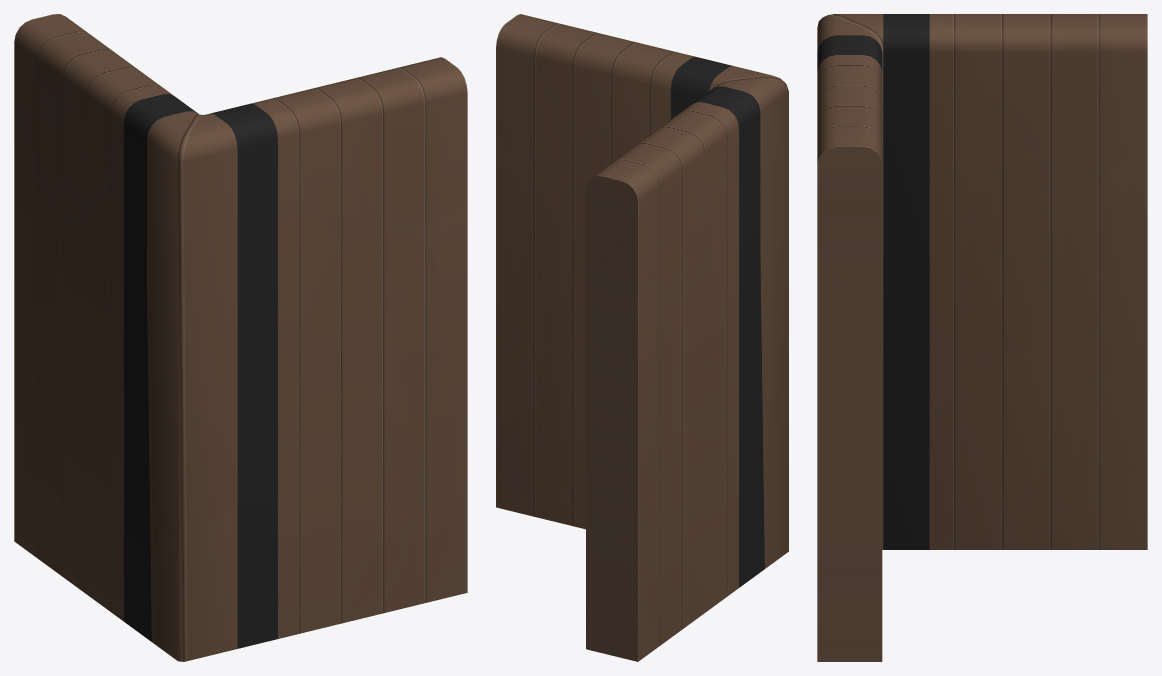
The model's file is WallCorner_GEO.fbx.
3 renders of one model, left to right at view 1: azimuth 30°, elevation 25°; view 2: azimuth 150°, elevation 25°; view 3: azimuth 270°, elevation 25°, orthographic. The views are drawn at different scales.
Parts seen in each view (by area): view 1: WallCorner_GEO; view 2: WallCorner_GEO; view 3: WallCorner_GEO.
Boxes of the visible parts, <box> form: WallCorner_GEO: <box>14,14,467,661</box>; WallCorner_GEO: <box>496,14,788,661</box>; WallCorner_GEO: <box>817,14,1147,661</box>.
Bounding box in the file's own units: 284 × 488 × 284.
1 material, 1 textured.
